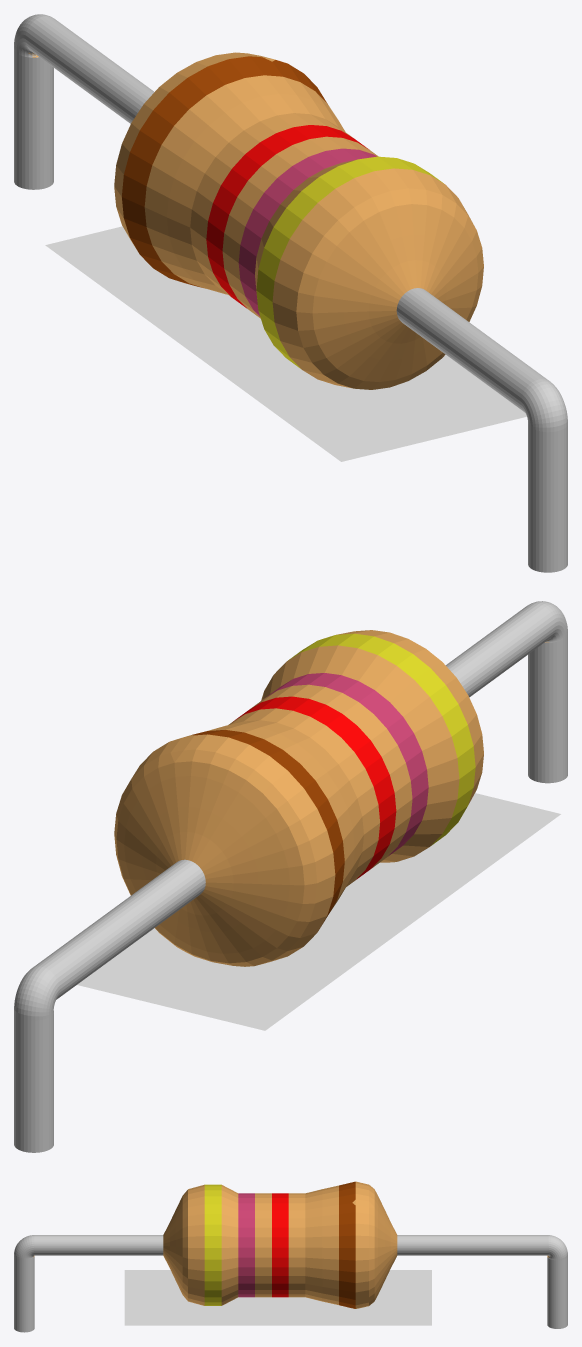
File: R4_tan_1.gltf
3 views of the same model, one above another, from view 1: azimuth 30°, elevation 25°; view 2: azimuth 150°, elevation 25°; view 3: azimuth 270°, elevation 25° (orthographic). The views are drawn at different scales.
Parts seen in each view (by area): view 1: R4_tan_1, R4_tan_1_plane; view 2: R4_tan_1, R4_tan_1_plane; view 3: R4_tan_1, R4_tan_1_plane.
Boxes of the visible parts, x1=… form: R4_tan_1: x1=14, y1=14, x2=567, y2=572; R4_tan_1_plane: x1=45, y1=226, x2=526, y2=461; R4_tan_1: x1=14, y1=601, x2=567, y2=1152; R4_tan_1_plane: x1=77, y1=793, x2=560, y2=1030; R4_tan_1: x1=14, y1=1181, x2=567, y2=1332; R4_tan_1_plane: x1=124, y1=1270, x2=431, y2=1325.
Size of the model in its own units: 0.0161 by 0.0189 by 0.0676.
